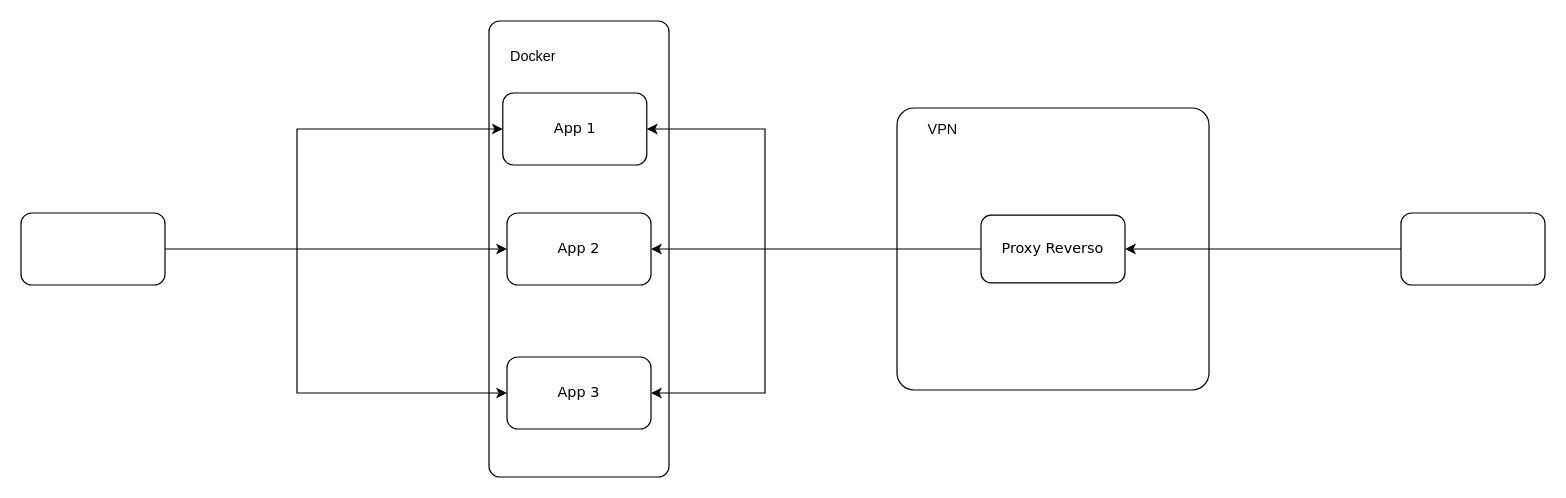
This 1566x498 diagram has some shape labels left out. Here are the shapes that lost their labels. From the top down, the box of each, then its label:
(20, 212, 165, 285): Database
(1400, 212, 1545, 285): Client
